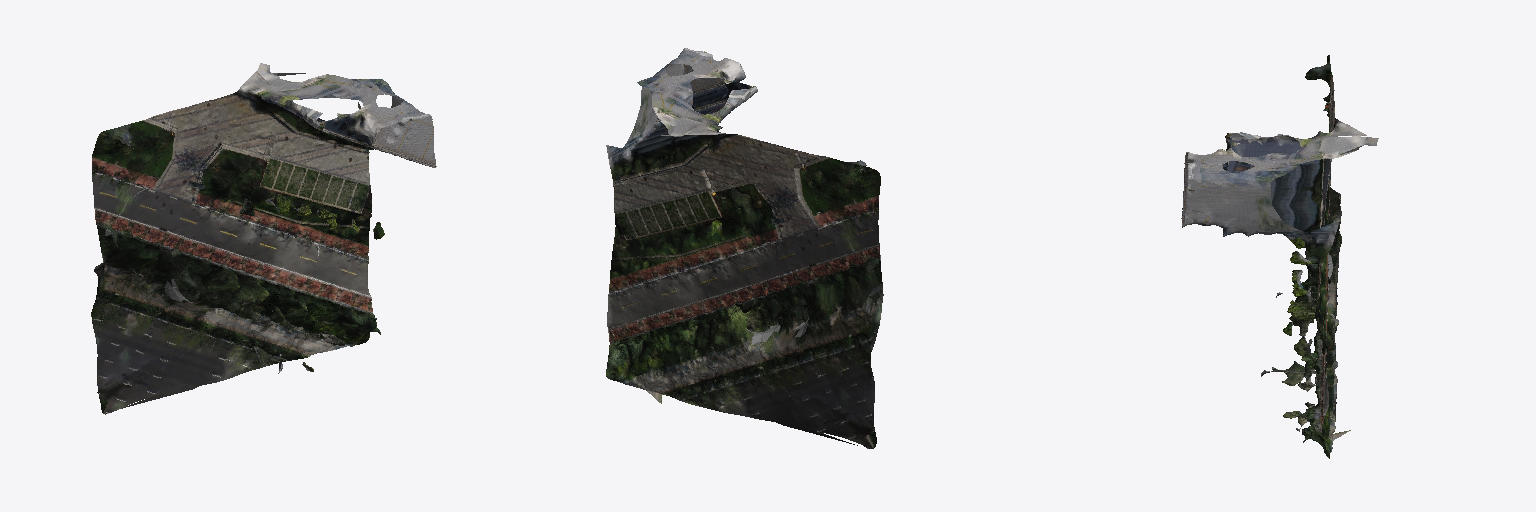
3 renders of one model, left to right at view 1: azimuth 30°, elevation 25°; view 2: azimuth 150°, elevation 25°; view 3: azimuth 270°, elevation 25°, orthographic.
Bounding box in the file's own units: 61.36 × 61.7 × 38.01.
Materials: 2 (1 with a texture image).